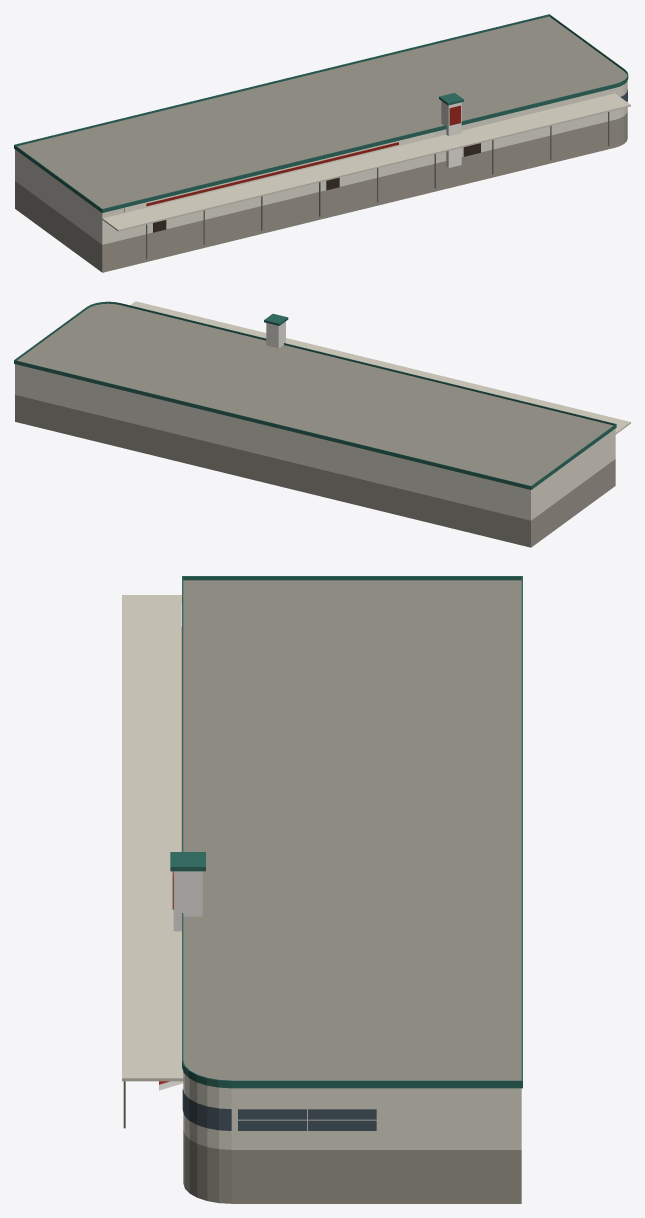
The model's file is hanks-dog-house.glb.
3 views of the same model, one above another, from view 1: azimuth 30°, elevation 25°; view 2: azimuth 150°, elevation 25°; view 3: azimuth 270°, elevation 25° (orthographic). The views are drawn at different scales.
Visible parts, largest first — view 1: hanks_dog_house; view 2: hanks_dog_house; view 3: hanks_dog_house.
Boxes of the visible parts, box(x1,y1,x2,y2) form: hanks_dog_house: box(14, 14, 630, 272); hanks_dog_house: box(14, 301, 630, 547); hanks_dog_house: box(122, 576, 522, 1203).
Size of the model in its own units: 74.16 by 11.7 by 24.88.
